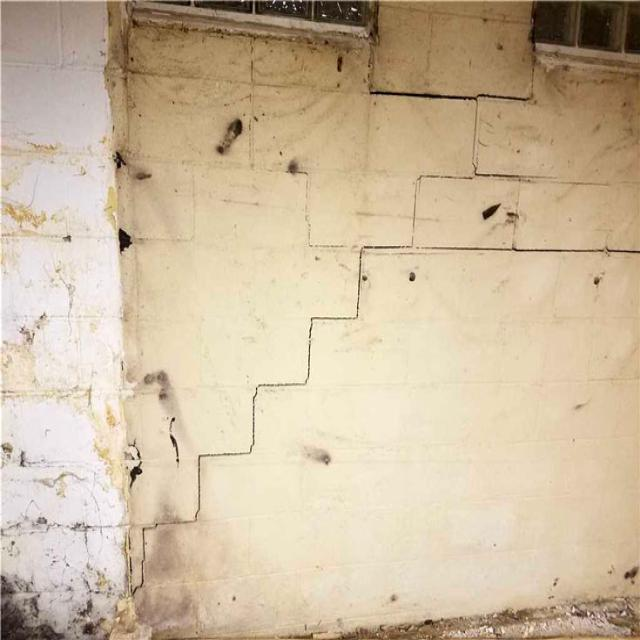Crack: (128, 82, 480, 600), (471, 52, 639, 256)
